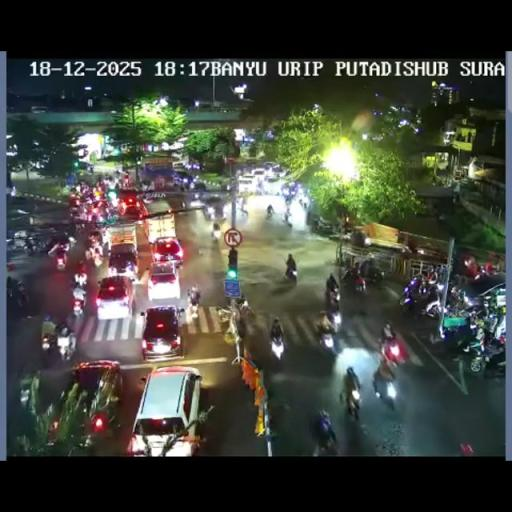Car: (126, 364, 203, 454), (60, 360, 122, 443), (139, 306, 184, 360), (96, 275, 134, 320), (146, 262, 182, 302), (107, 242, 139, 280), (150, 236, 185, 266), (116, 189, 146, 217), (202, 192, 228, 218), (173, 170, 198, 188), (186, 190, 206, 208), (262, 161, 284, 176), (72, 158, 94, 173), (250, 169, 268, 187), (237, 174, 254, 192), (190, 180, 209, 194), (30, 106, 48, 114)
Motorcycle: (314, 274, 398, 366), (462, 330, 505, 374), (399, 278, 442, 320), (422, 318, 462, 356), (310, 412, 336, 454), (373, 370, 397, 410), (379, 322, 401, 362), (483, 290, 506, 325), (316, 322, 338, 355), (342, 382, 362, 418), (446, 285, 470, 314), (340, 268, 366, 294), (56, 332, 76, 362), (269, 328, 285, 362), (310, 214, 336, 234), (237, 296, 255, 322), (15, 282, 30, 310), (215, 303, 235, 323), (186, 292, 201, 318), (24, 236, 43, 256), (326, 287, 340, 313), (100, 202, 118, 222), (89, 244, 104, 267), (72, 292, 85, 317), (422, 268, 438, 288), (74, 263, 87, 287), (41, 330, 54, 352), (358, 258, 372, 278), (196, 240, 212, 257), (55, 250, 67, 271), (475, 264, 492, 278), (54, 320, 68, 336), (285, 264, 297, 282), (20, 386, 30, 406), (340, 228, 354, 242), (210, 224, 221, 240), (438, 210, 450, 224), (298, 195, 309, 209), (283, 207, 292, 224), (84, 207, 94, 222), (175, 306, 184, 322), (67, 235, 77, 249), (238, 200, 247, 215), (265, 208, 274, 219), (284, 194, 292, 206), (179, 182, 185, 192)
